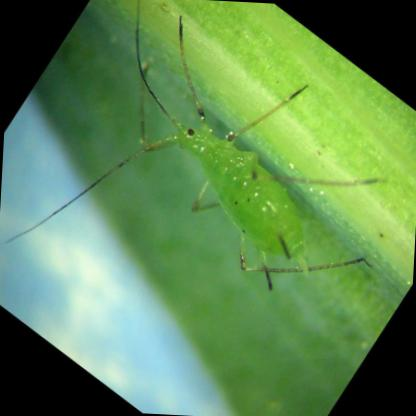uroleucon compositae: (145, 77, 314, 280)
